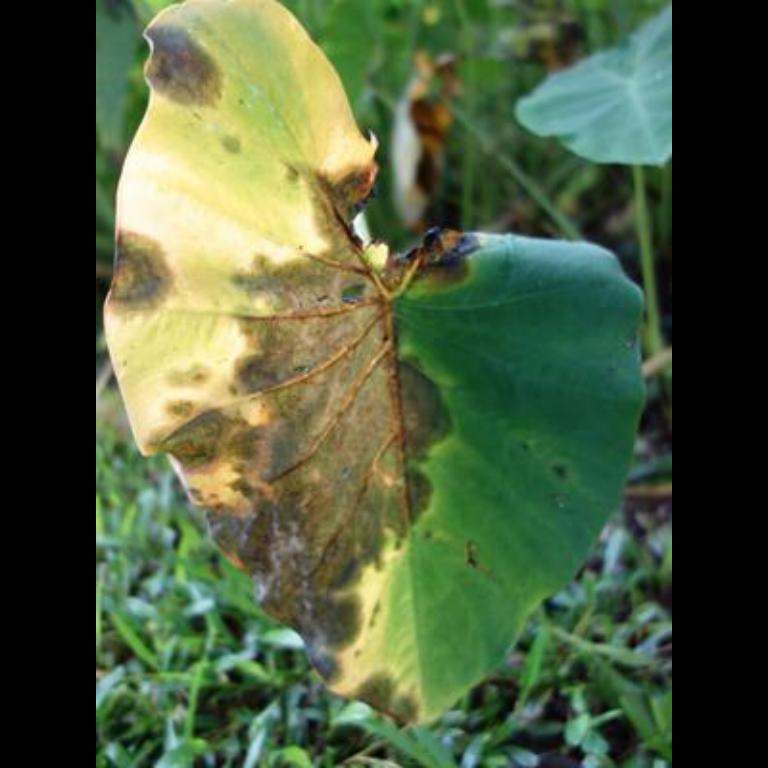blight: (202, 239, 466, 607)
